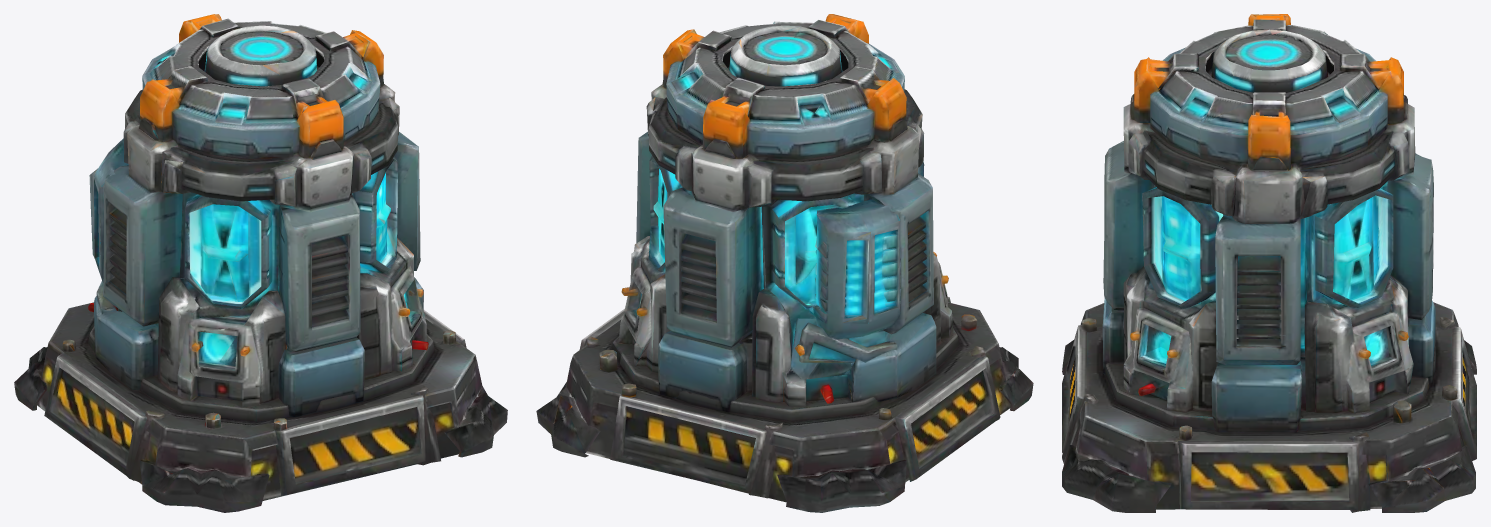
The model's file is generator_1.glb.
3 views of the same model, side by side, from view 1: azimuth 30°, elevation 25°; view 2: azimuth 150°, elevation 25°; view 3: azimuth 270°, elevation 25° (orthographic). The views are drawn at different scales.
Visible parts, largest first — view 1: mesh_node; view 2: mesh_node; view 3: mesh_node.
Boxes of the visible parts, x1,y1,x2,y2 form: mesh_node: (14, 14, 507, 512); mesh_node: (536, 14, 1033, 512); mesh_node: (1062, 14, 1476, 512).
Bounding box in the file's own units: 1 × 1 × 1.
Materials: 1 (1 with a texture image).
